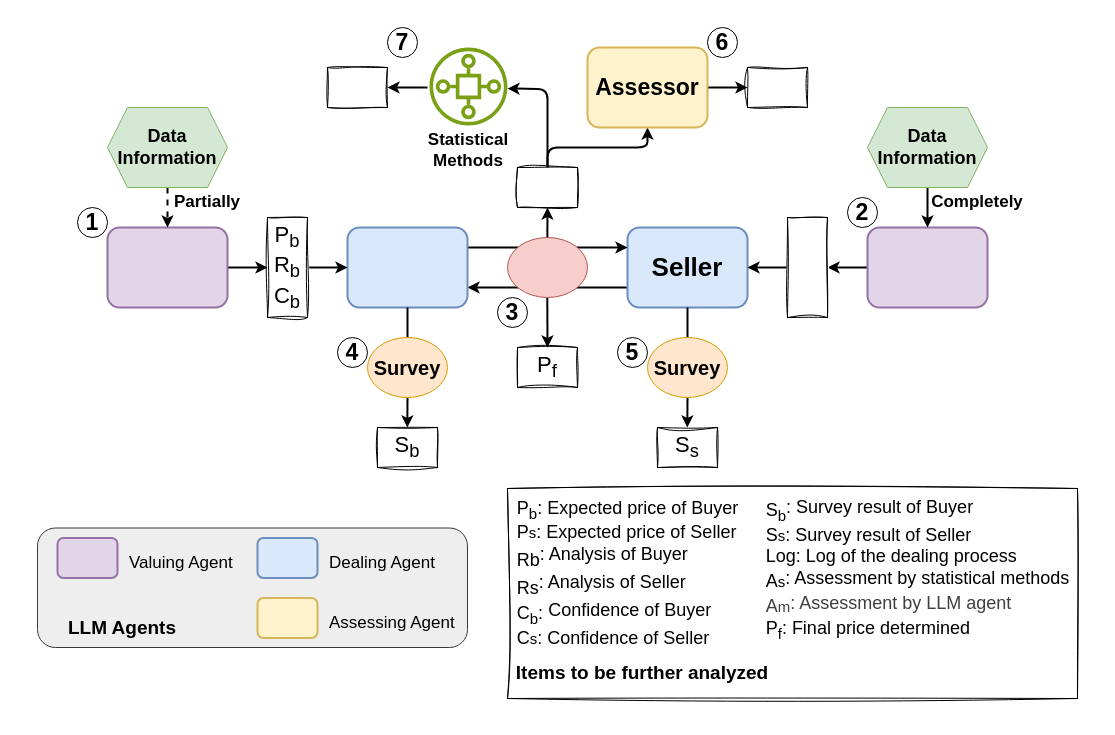
This 1115x735 diagram has some shape labels left out. The centre of each missing label's shape, as x and y in pixels:
"A m" goes at point (777, 87).
"A s" goes at point (357, 87).
"Buyer" goes at point (407, 267).
"Buying Valuer" goes at point (167, 267).
"Deal" goes at point (547, 267).
"Log" goes at point (547, 187).
"P s R s C s" goes at point (807, 267).
"Selling Valuer" goes at point (927, 267).
